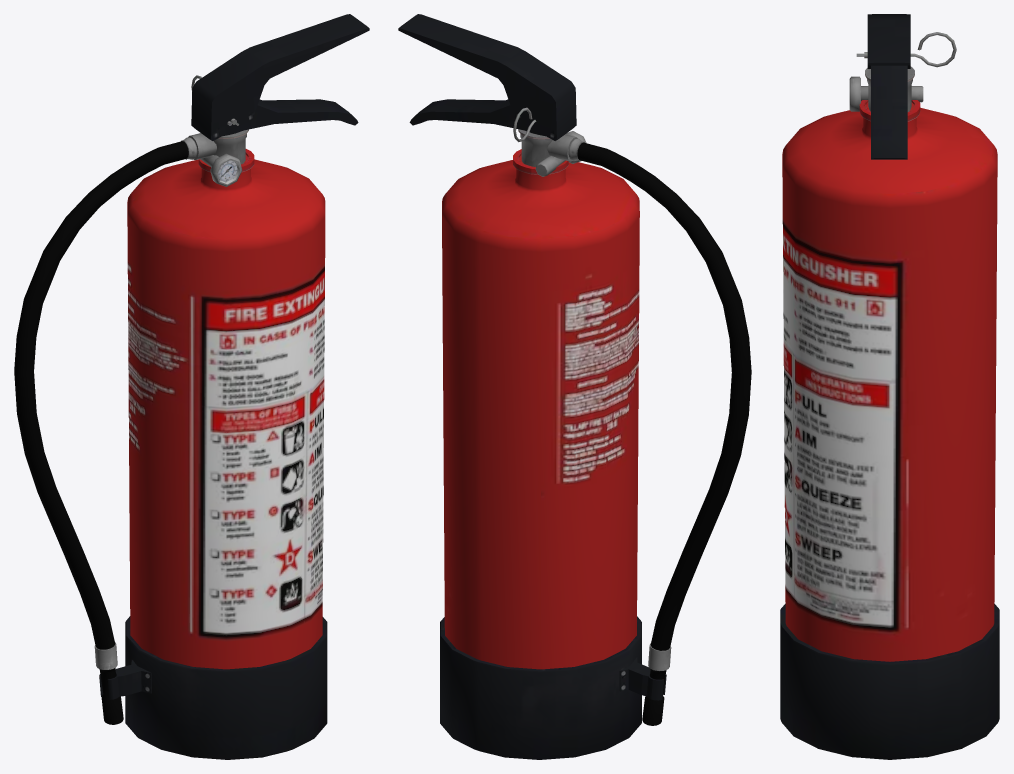
Rendered from fire_extinguisher_5676b1.glb.
3 renders of one model, left to right at view 1: azimuth 30°, elevation 25°; view 2: azimuth 150°, elevation 25°; view 3: azimuth 270°, elevation 25°, orthographic. The views are drawn at different scales.
Parts seen in each view (by area): view 1: Cylinder002; view 2: Cylinder002; view 3: Cylinder002.
Boxes of the visible parts, x1,y1,x2,y2 form: Cylinder002: (14, 14, 369, 759); Cylinder002: (398, 14, 751, 759); Cylinder002: (780, 14, 999, 759).
Bounding box in the file's own units: 1.08 × 2 × 0.5509.
1 material, 1 textured.
